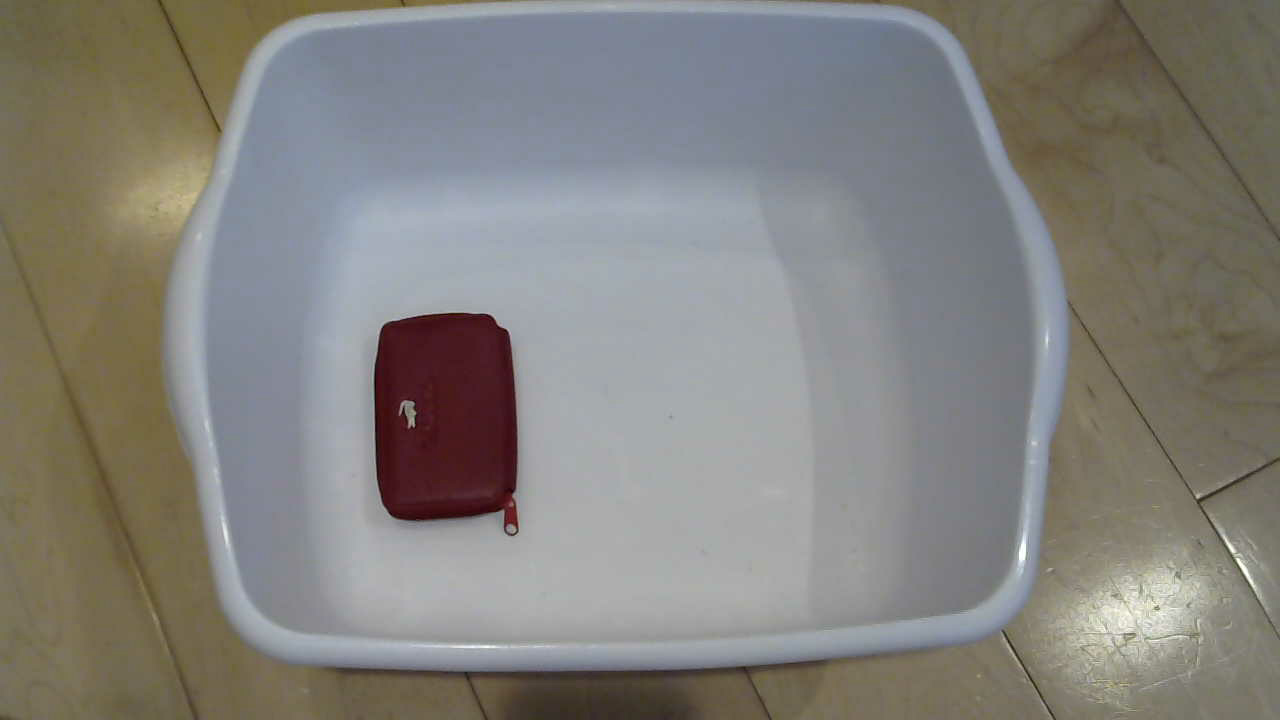wallet: (366, 314, 544, 529)
